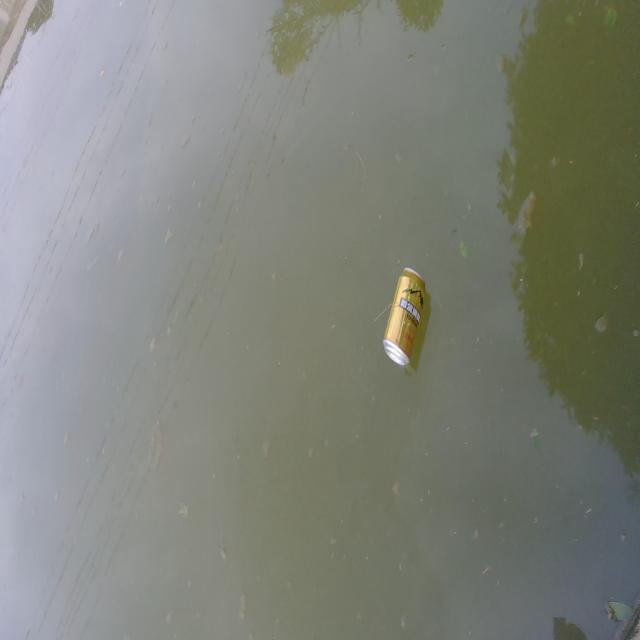Can: (381, 261, 428, 370)
